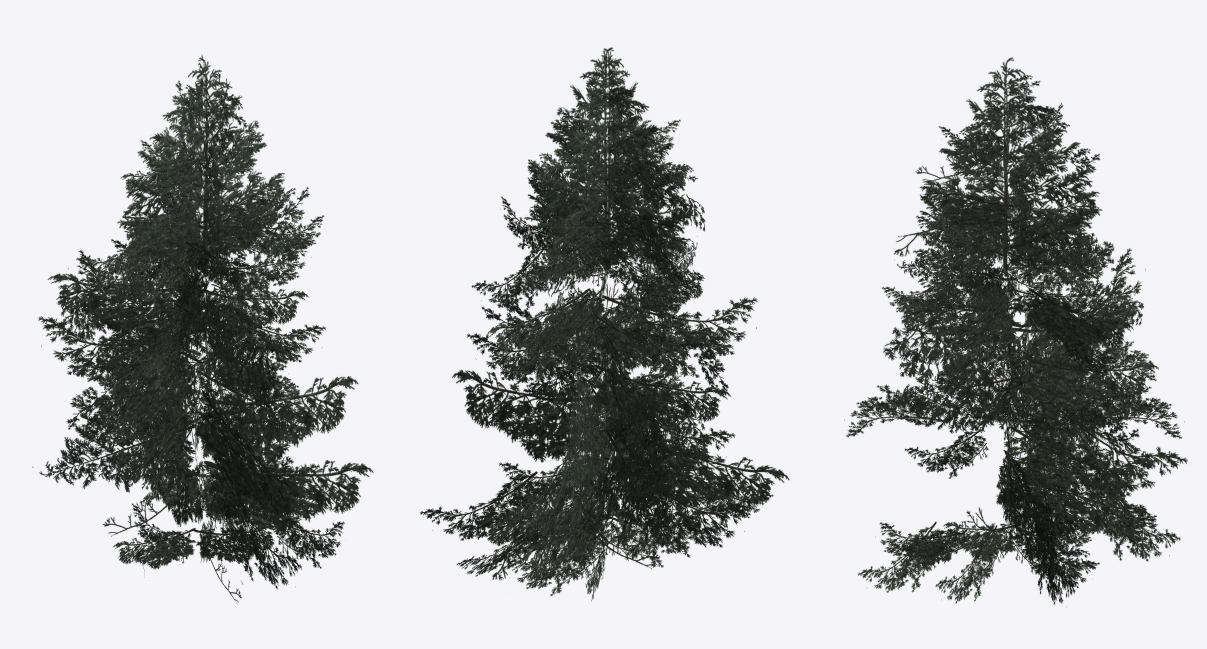
The model's file is distant-tree-23.glb.
3 views of the same model, side by side, from view 1: azimuth 30°, elevation 25°; view 2: azimuth 150°, elevation 25°; view 3: azimuth 270°, elevation 25° (orthographic). The views are drawn at different scales.
Visible parts, largest first — view 1: Tree_Branches_01.002; view 2: Tree_Branches_01.002; view 3: Tree_Branches_01.002.
Part boxes in pixels (bbox=[...]): Tree_Branches_01.002: bbox=[32, 54, 373, 602]; Tree_Branches_01.002: bbox=[420, 47, 789, 601]; Tree_Branches_01.002: bbox=[844, 57, 1187, 604].
Size of the model in its own units: 1006 by 1660 by 1007.
1 material, 1 textured.
